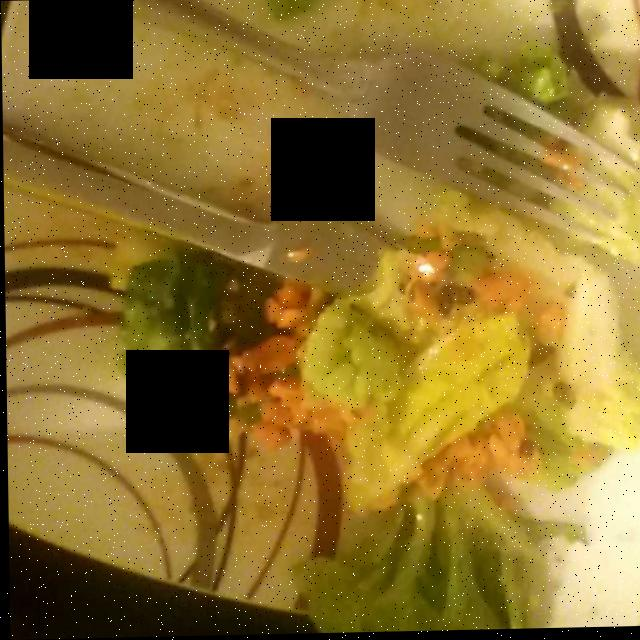carrot-raw: (211, 246, 575, 490)
salad-leaf-salad-green: (101, 211, 620, 618)
